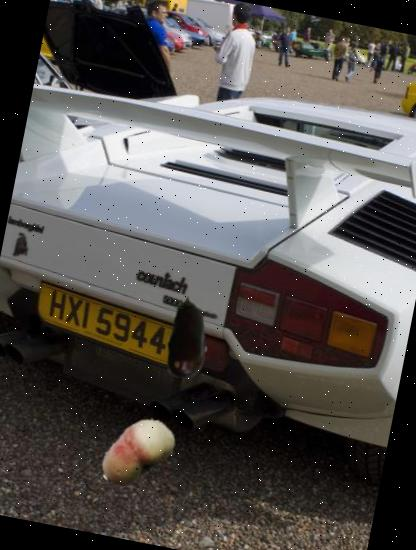Eggplant: (137, 288, 237, 388)
Peach: (88, 405, 186, 502)
